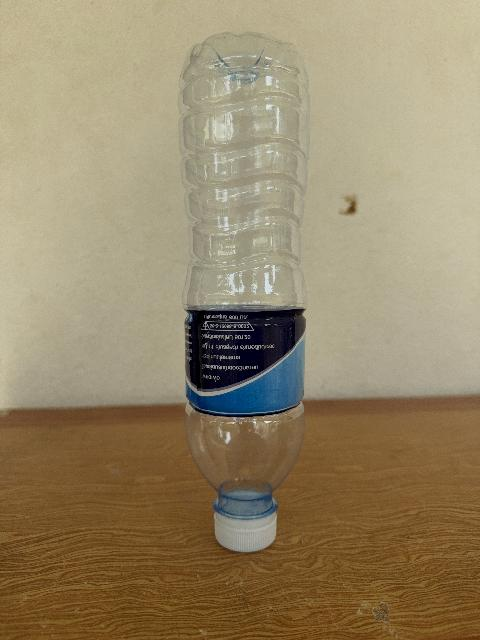bottle: (179, 33, 308, 551)
